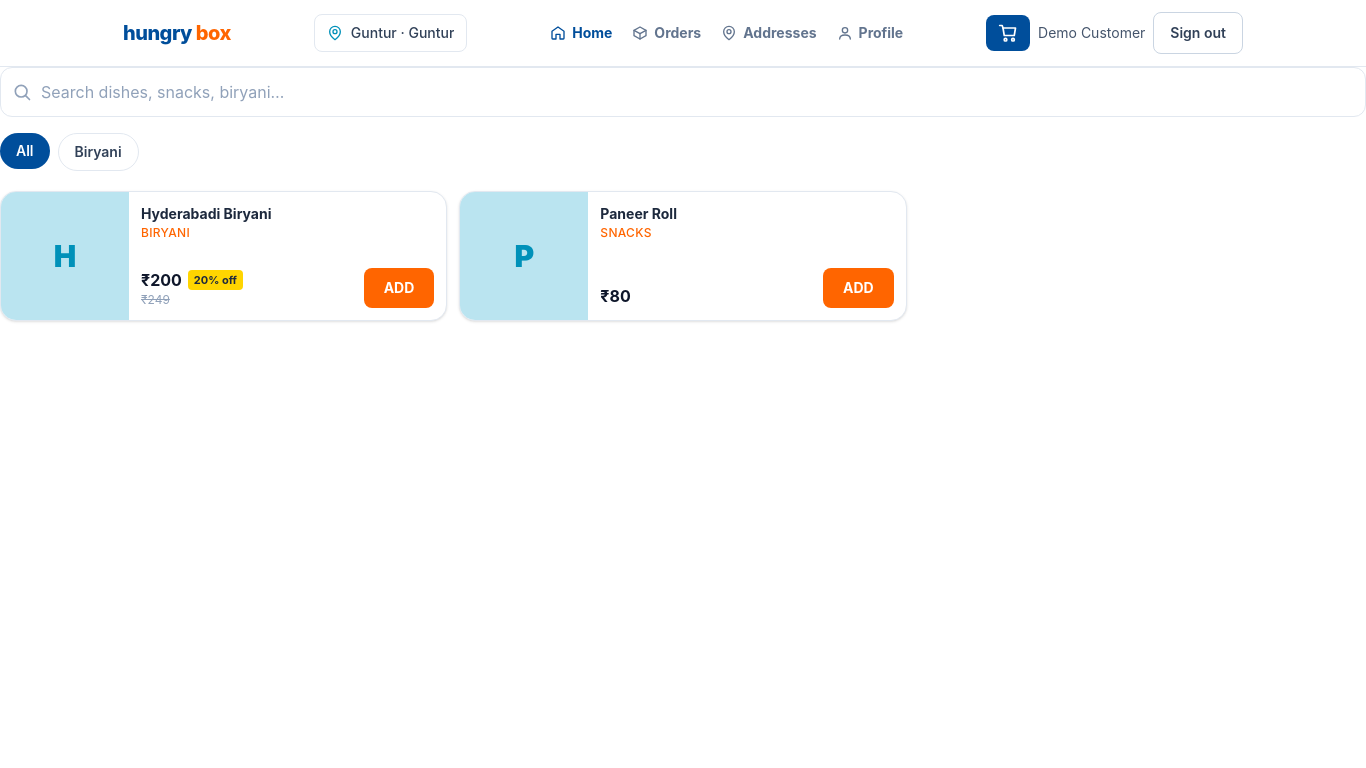
Test: cart › shows an empty state when the cart has no items
The width and height of the screenshot is (1366, 768).
Click the button named "Open cart". click: (1008, 33)
box: top-left (986, 15), bottom-right (1030, 51)
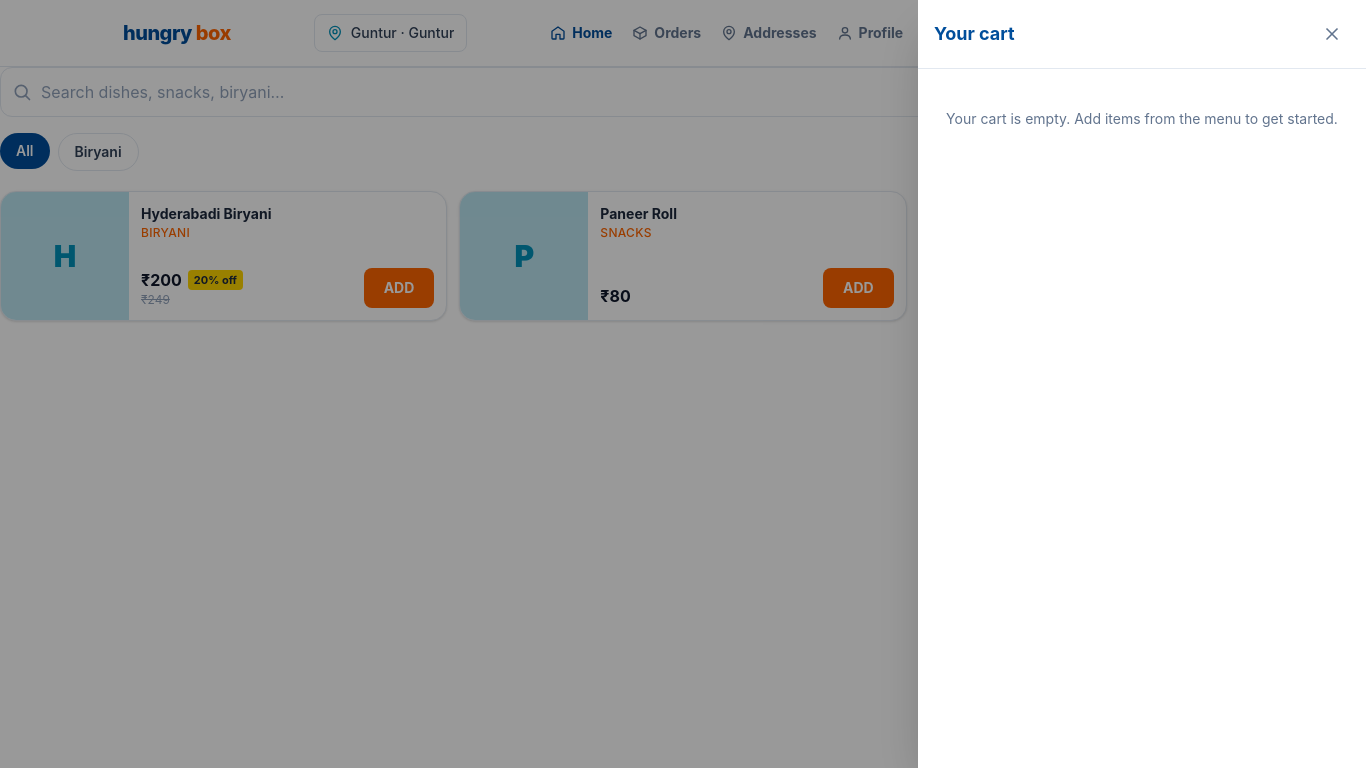
Now the dialog "Your cart" is shown
Now the text "Your cart is empty. Add items from the menu to get started." is shown, box top-left (946, 110), bottom-right (1338, 127)
